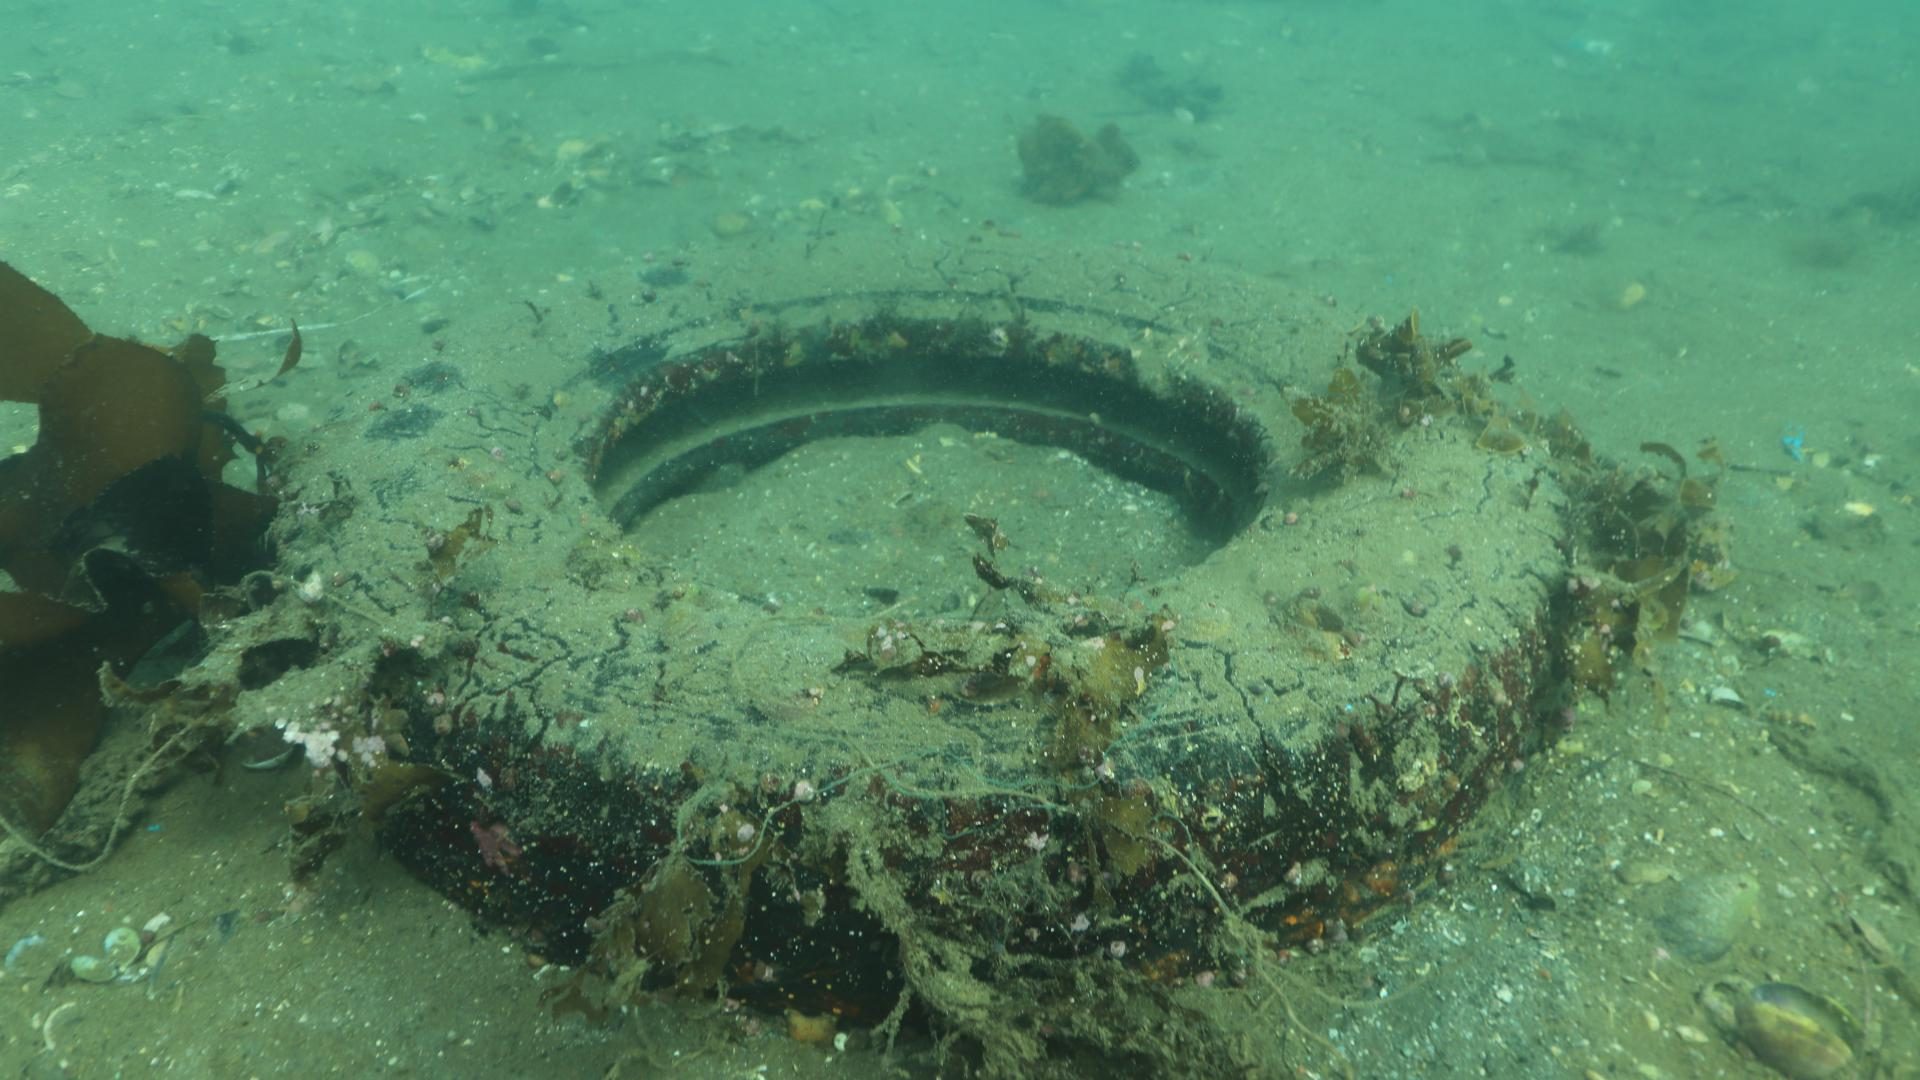tire: (264, 227, 1572, 1026)
